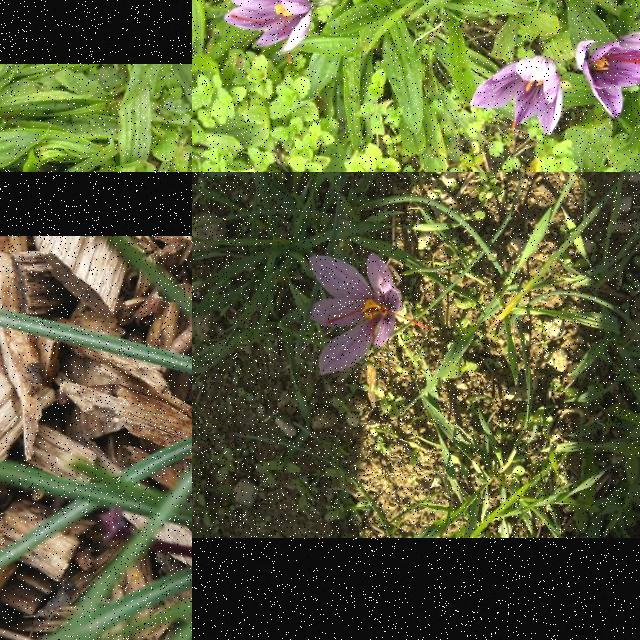flower: (310, 254, 430, 378), (471, 56, 564, 136), (225, 0, 316, 62)
overlap: (576, 30, 640, 119)
